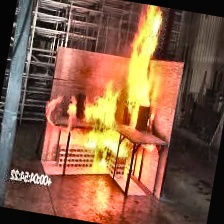fire: (36, 0, 185, 187)
